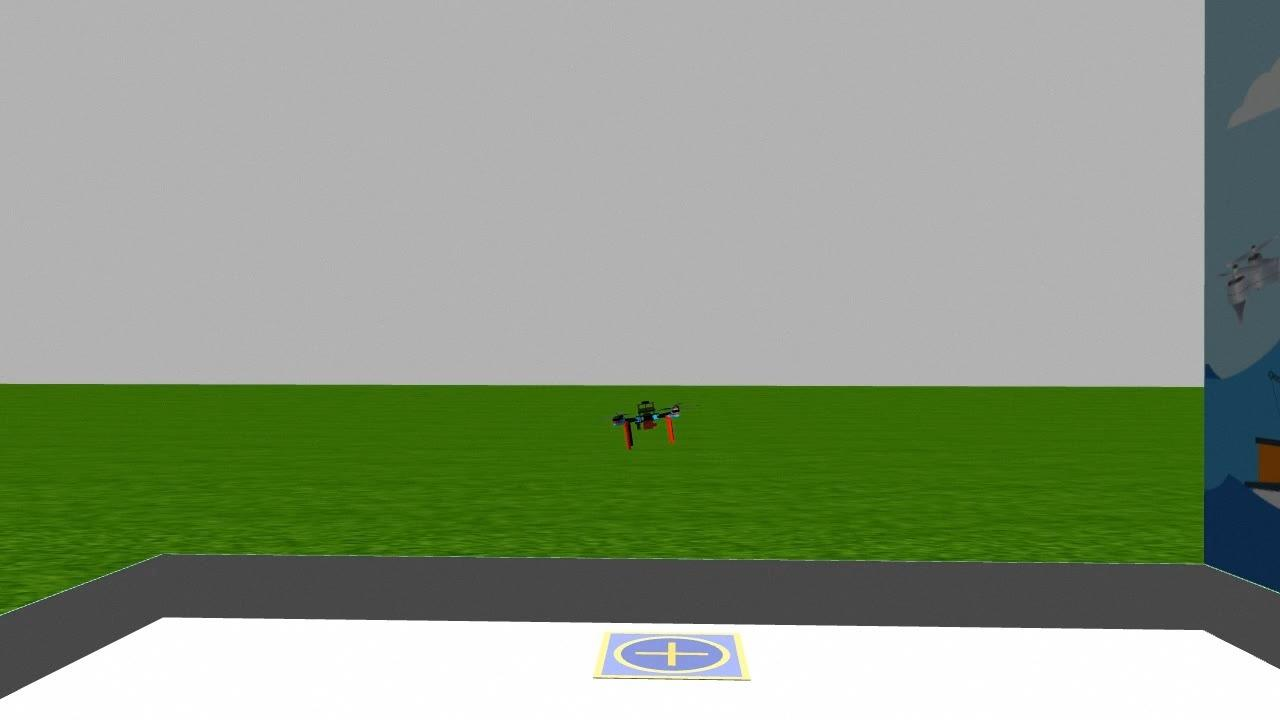UAV: (598, 379, 693, 460)
